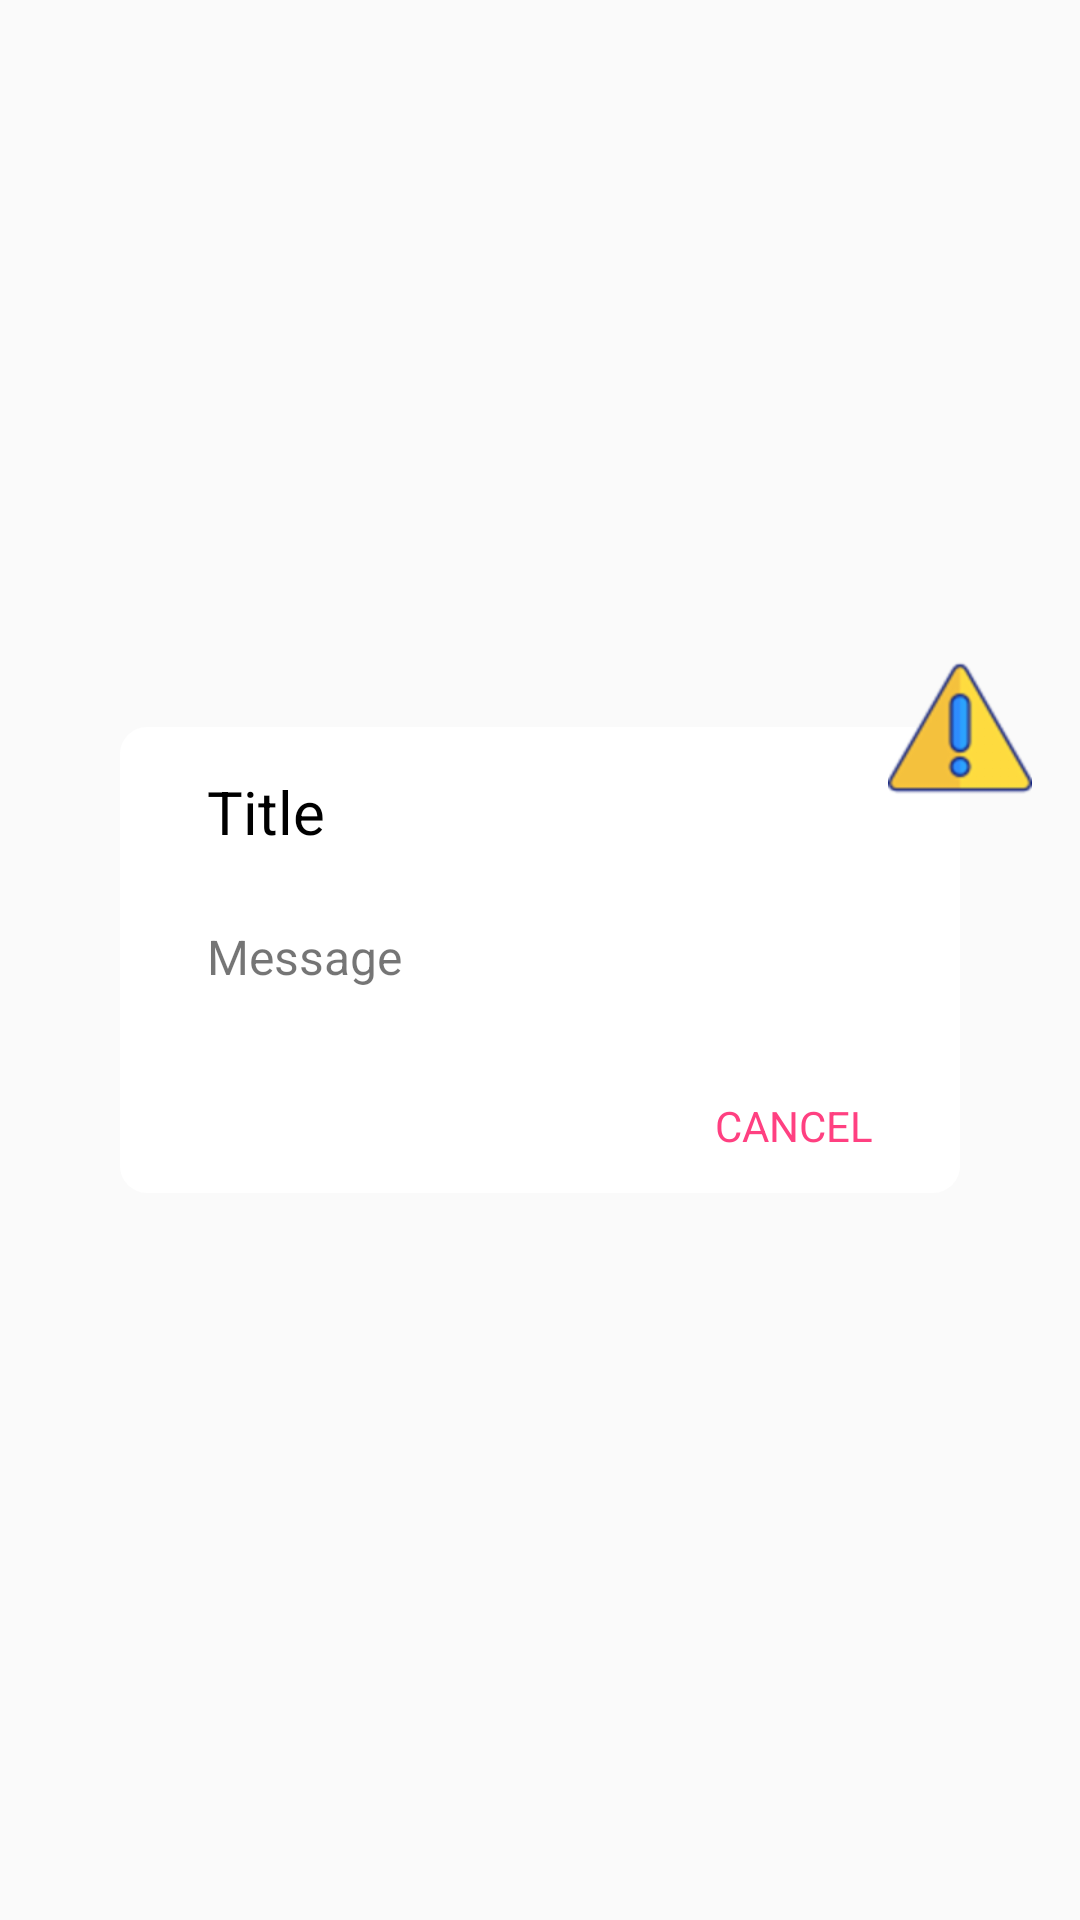

Where to tap for icons on this 1080x1920 app screen, as (x=x, y=y):
warning: (x=960, y=728)
